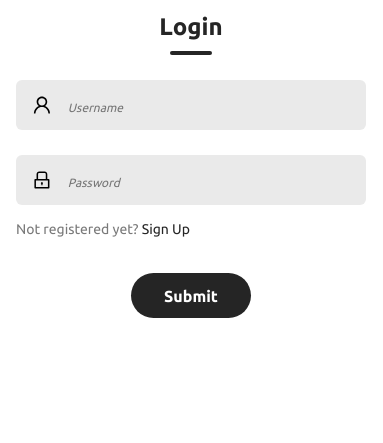
Test: submits the Login form and handles the response correctly
Simulate user input
Type "testuser" into the field with placeholder "Username" at (217, 105), box [68, 80, 366, 130]
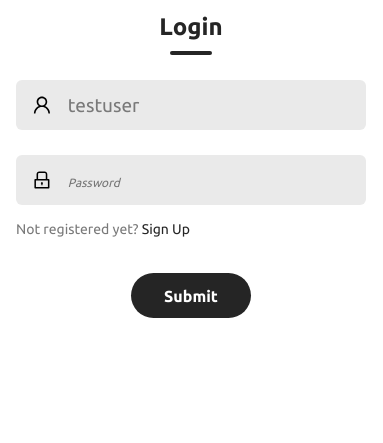
Type "password" into the password field with placeholder "Password" at (217, 180), box [68, 155, 366, 205]
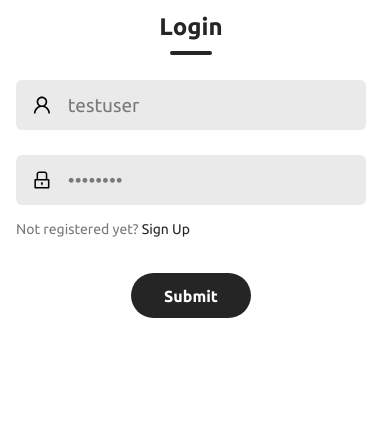
Click the button "Submit" at (191, 296), box [131, 273, 251, 318]
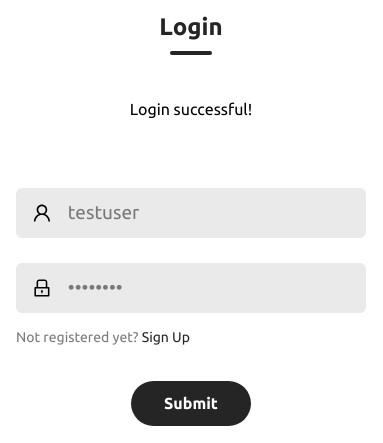
Now the text "Login successful!" is shown, box [130, 99, 252, 119]
